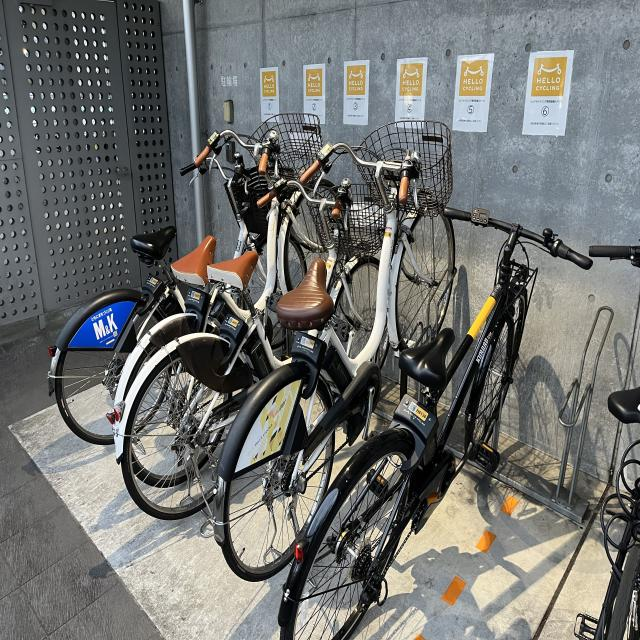basket: (358, 117, 456, 216), (246, 111, 327, 185), (311, 185, 385, 260)
battery: (325, 346, 355, 401), (246, 334, 273, 378), (425, 430, 439, 479)
